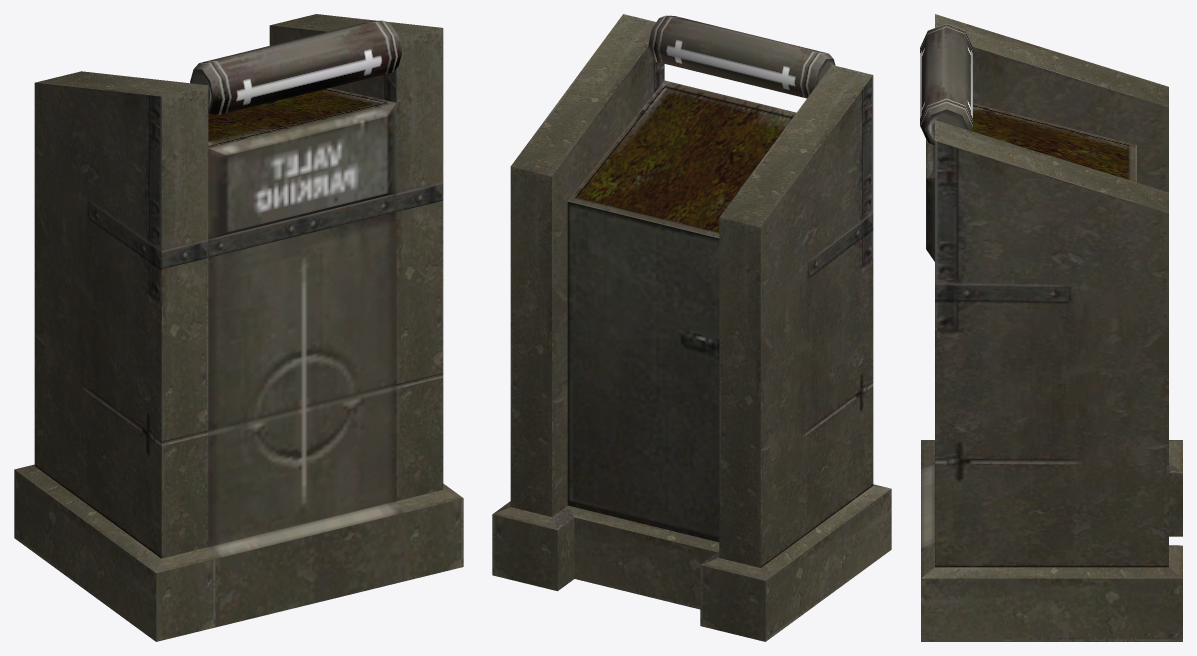
Rendered from hel_club_garage_podium.fbx.
3 views of the same model, side by side, from view 1: azimuth 30°, elevation 25°; view 2: azimuth 150°, elevation 25°; view 3: azimuth 270°, elevation 25° (orthographic). The views are drawn at different scales.
Parts seen in each view (by area): view 1: mesh_0; view 2: mesh_0; view 3: mesh_0.
Part boxes in pixels (x1,y1,x2,y2): mesh_0: [14, 14, 463, 641]; mesh_0: [492, 14, 891, 641]; mesh_0: [920, 14, 1182, 641].
Bounding box in the file's own units: 87.08 × 149 × 69.84.
1 material, 1 textured.
